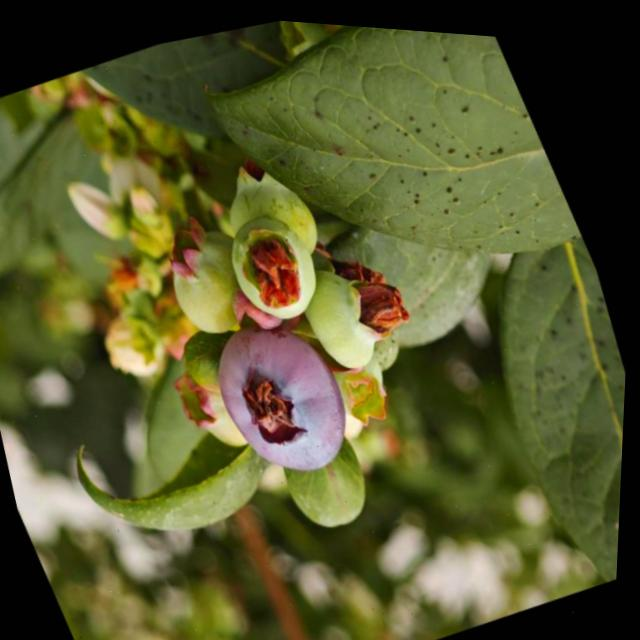Semi-RipeBlueBerry: (193, 286, 385, 500)
UnripeBlueBerry: (212, 186, 348, 338)
